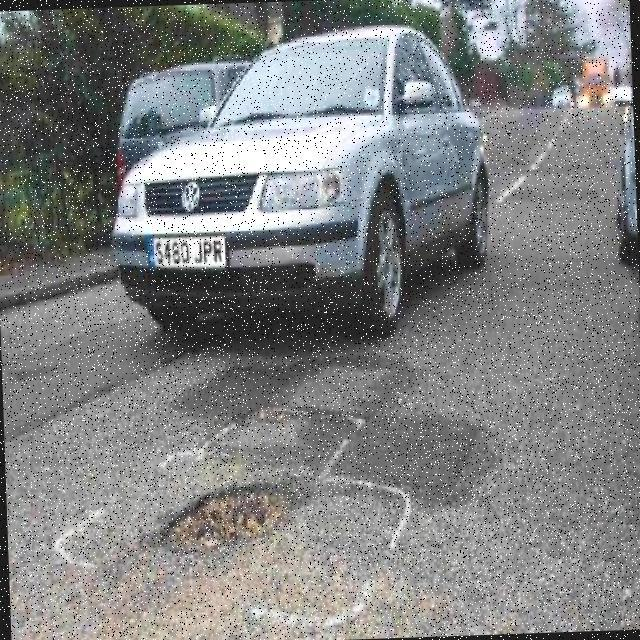Pothole: (157, 491, 292, 555)
